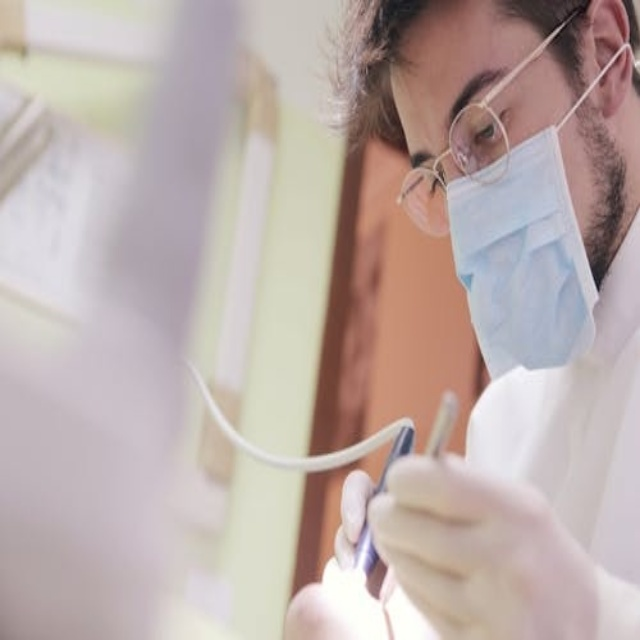Gafas: (392, 0, 612, 229)
Guantes: (366, 451, 602, 640), (333, 467, 386, 590)
Mascara: (444, 106, 603, 378)
